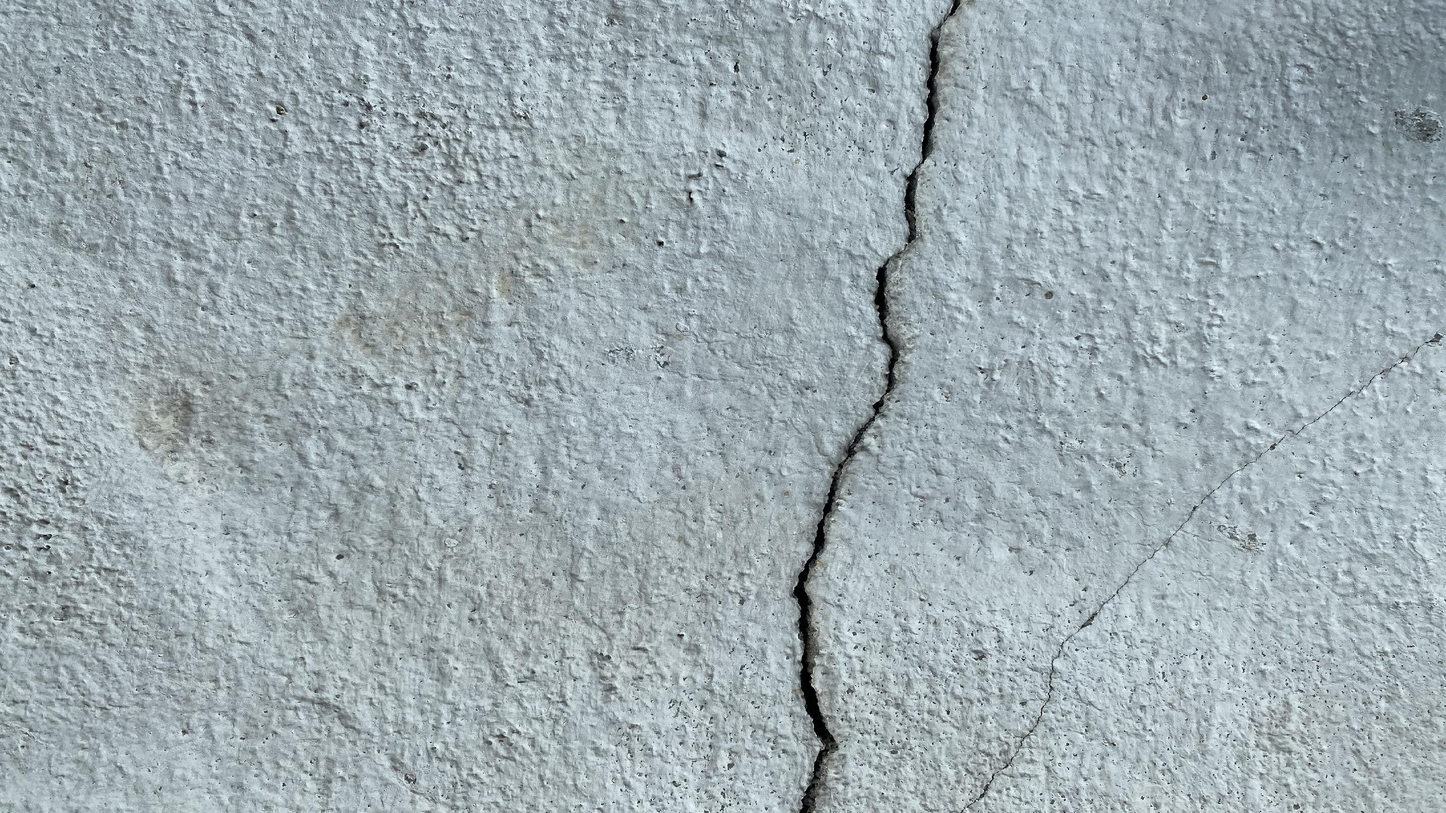crack: (793, 1, 961, 812)
